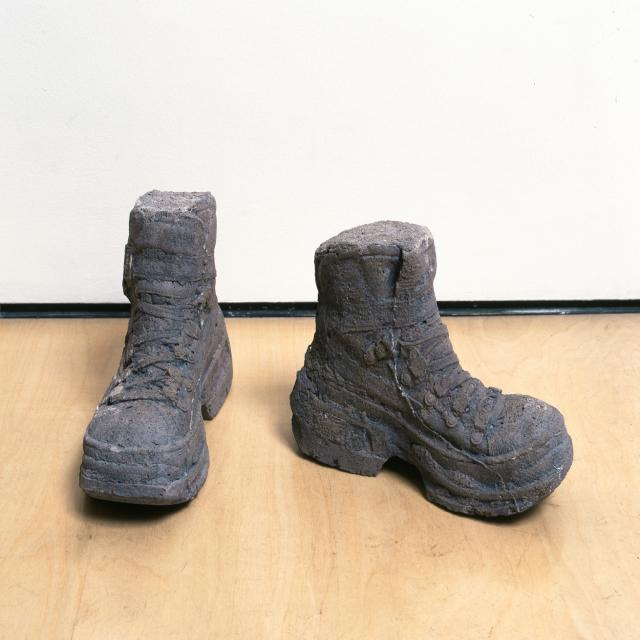boot: (282, 212, 586, 520), (63, 173, 239, 518)
